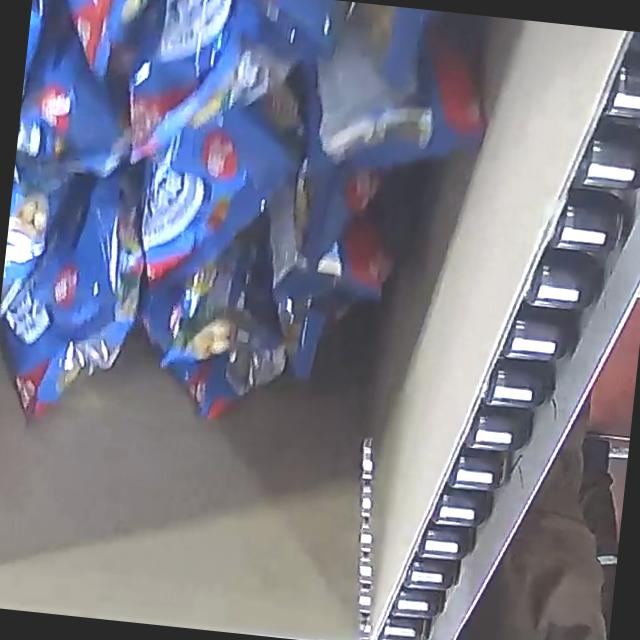paprika: (0, 0, 496, 468)
